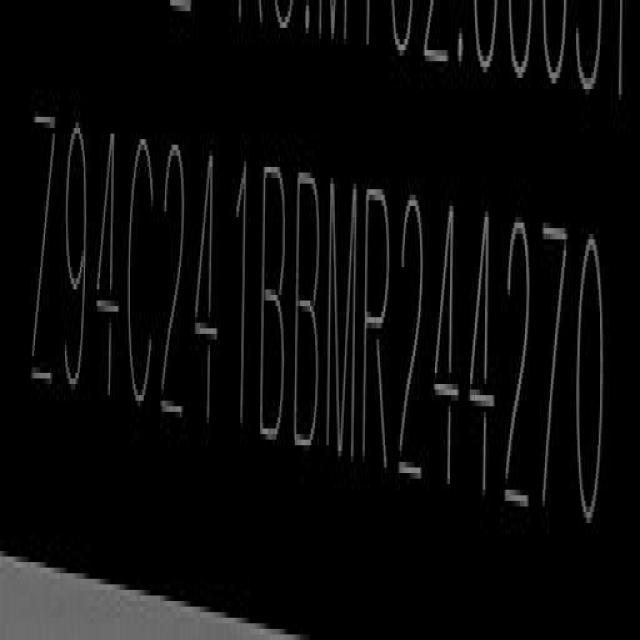0: (574, 234, 606, 534)
1: (233, 147, 250, 435)
2: (504, 212, 534, 520), (397, 188, 427, 486), (160, 136, 188, 426)
4: (465, 207, 495, 510), (432, 198, 460, 500), (195, 146, 223, 434), (96, 120, 122, 410)
7: (541, 216, 571, 527)
9: (61, 113, 88, 402)
B: (258, 152, 290, 443), (296, 161, 324, 455)
C: (128, 132, 159, 420)
N: (327, 170, 358, 459)
R: (363, 176, 393, 471)
Z: (28, 102, 58, 395)
